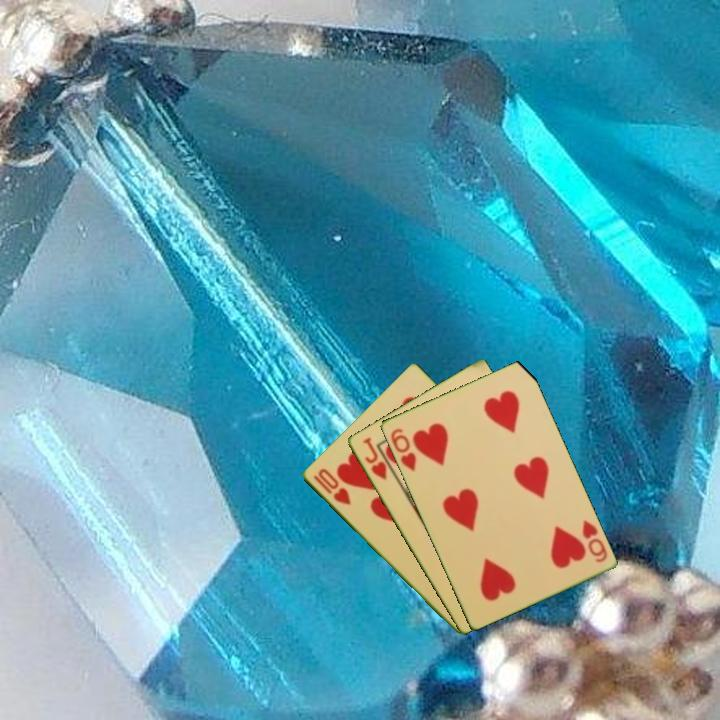10h: (309, 465, 353, 508)
6h: (387, 424, 419, 475), (578, 516, 610, 565)
Jh: (359, 433, 389, 483)
